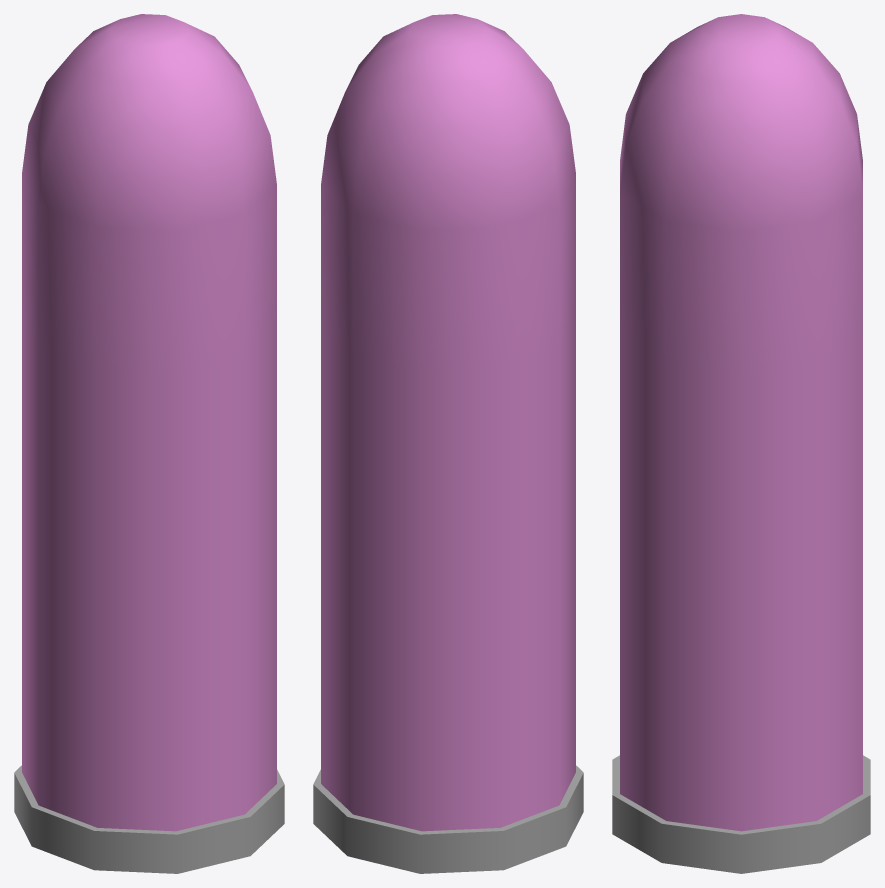
Rendered from FBX_AdornoContendorDuende.fbx.
3 views of the same model, side by side, from view 1: azimuth 30°, elevation 25°; view 2: azimuth 150°, elevation 25°; view 3: azimuth 270°, elevation 25° (orthographic).
Parts seen in each view (by area): view 1: Contenedorcito_de_Duende; view 2: Contenedorcito_de_Duende; view 3: Contenedorcito_de_Duende.
Boxes of the visible parts, <box> form: Contenedorcito_de_Duende: <box>14,14,284,873</box>; Contenedorcito_de_Duende: <box>313,14,583,873</box>; Contenedorcito_de_Duende: <box>612,14,870,873</box>.
Size of the model in its own units: 21.42 by 68.43 by 20.37.
